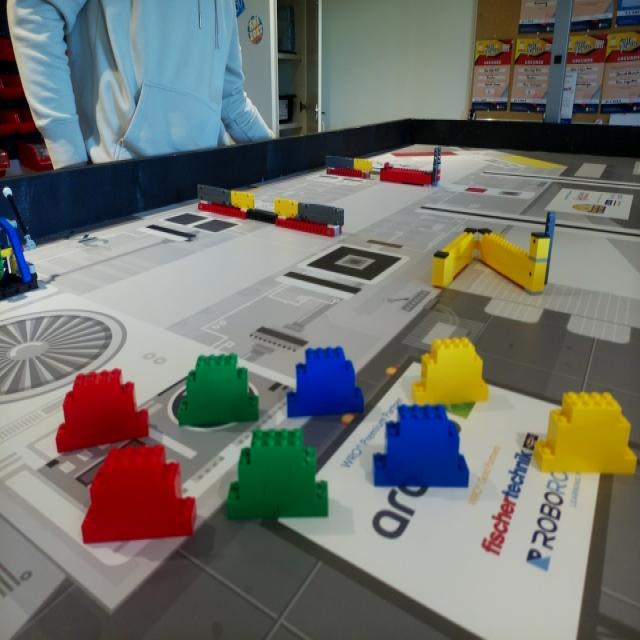blau: (373, 403, 470, 492), (287, 346, 364, 417)
gruen: (227, 428, 329, 519), (178, 354, 259, 426)
rot: (83, 447, 195, 543), (58, 368, 148, 453)
yellow: (537, 389, 637, 475), (415, 338, 489, 404)
